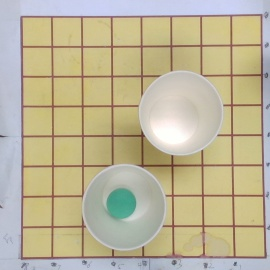cup: (138, 70, 224, 157)
cup_green: (81, 164, 166, 251)
